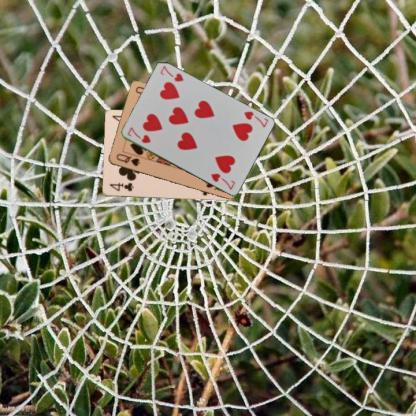4c: (107, 180, 135, 192)
7h: (124, 124, 152, 145), (242, 108, 269, 128)
Qs: (114, 152, 141, 168)
